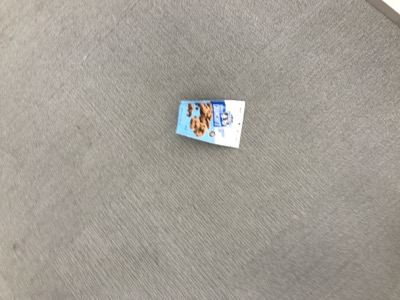cookie: (173, 96, 247, 150)
